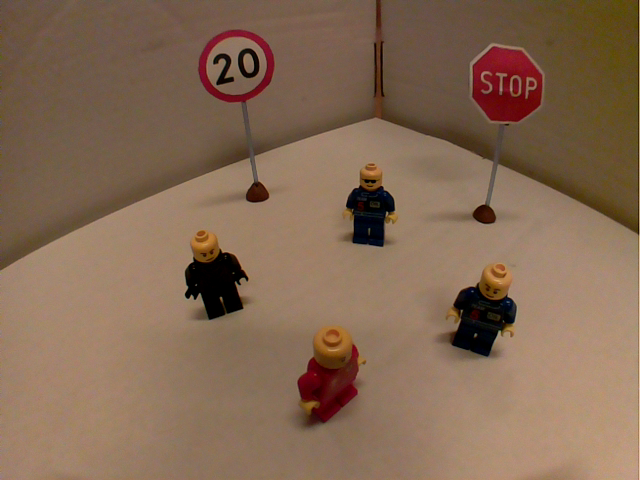Ograniczenie 20: (193, 24, 278, 105)
Postac LEGO: (442, 255, 522, 367), (293, 319, 373, 428), (176, 222, 253, 326), (339, 158, 401, 250)
Stop: (462, 39, 551, 131)
